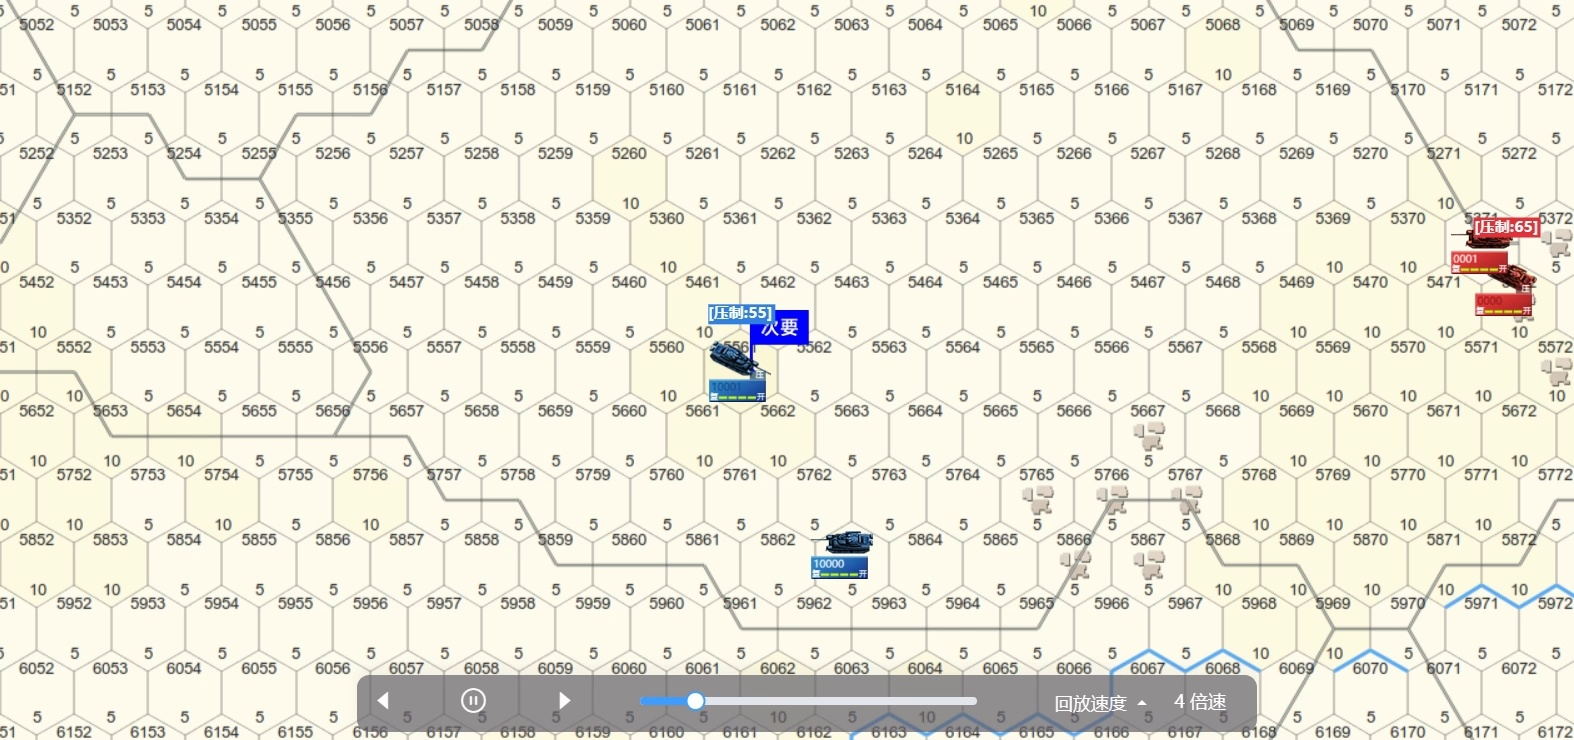blue_tank: (711, 341, 771, 399), (818, 530, 871, 571)
red_tank: (1476, 268, 1536, 315), (1450, 233, 1514, 269)
